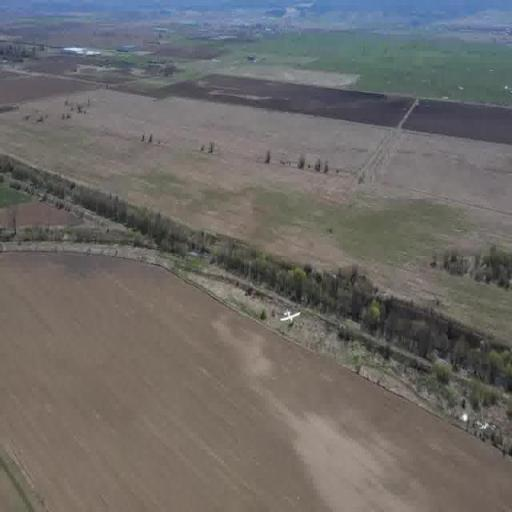uav: (278, 301, 302, 331)
